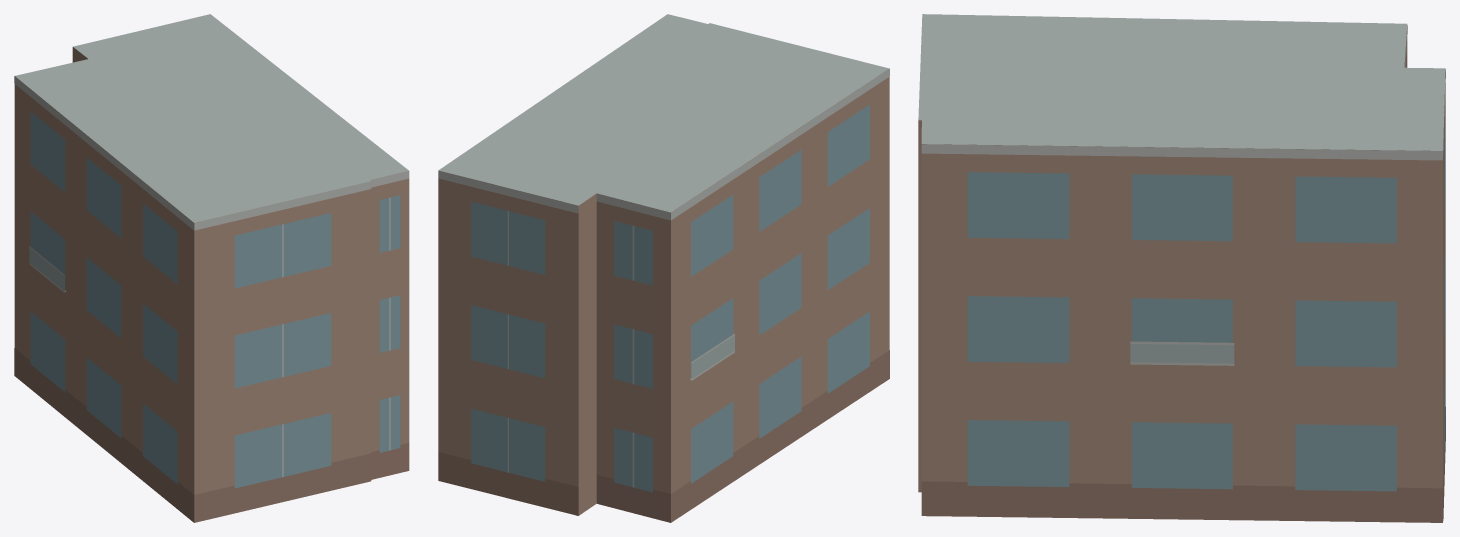
Rendered from survey-upis-33014455.glb.
3 views of the same model, side by side, from view 1: azimuth 30°, elevation 25°; view 2: azimuth 150°, elevation 25°; view 3: azimuth 270°, elevation 25° (orthographic). The views are drawn at different scales.
Parts seen in each view (by area): view 1: survey-upis-33014455.tmp; view 2: survey-upis-33014455.tmp; view 3: survey-upis-33014455.tmp.
Part boxes in pixels (<box>): survey-upis-33014455.tmp: <box>14,14,409,522</box>; survey-upis-33014455.tmp: <box>438,14,889,522</box>; survey-upis-33014455.tmp: <box>918,14,1445,522</box>.
Bounding box in the file's own units: 7.51 × 9.5 × 12.22.
